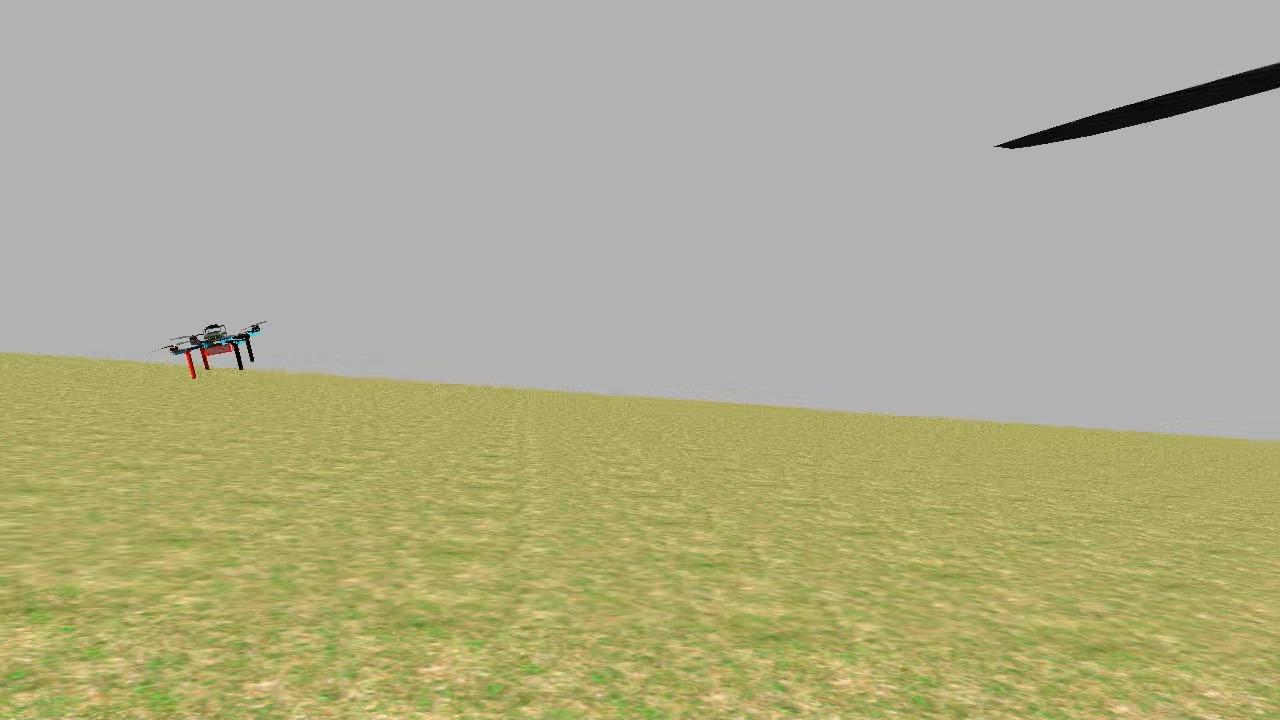UAV: (168, 316, 272, 388)
